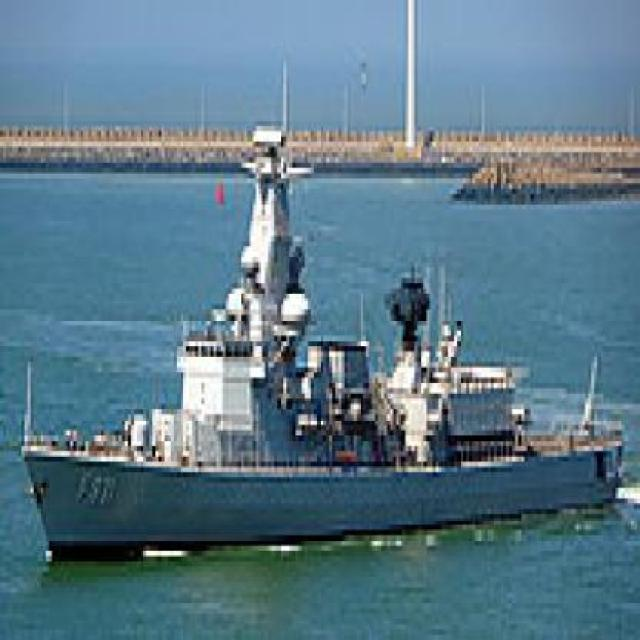warship2: (10, 75, 632, 562)
